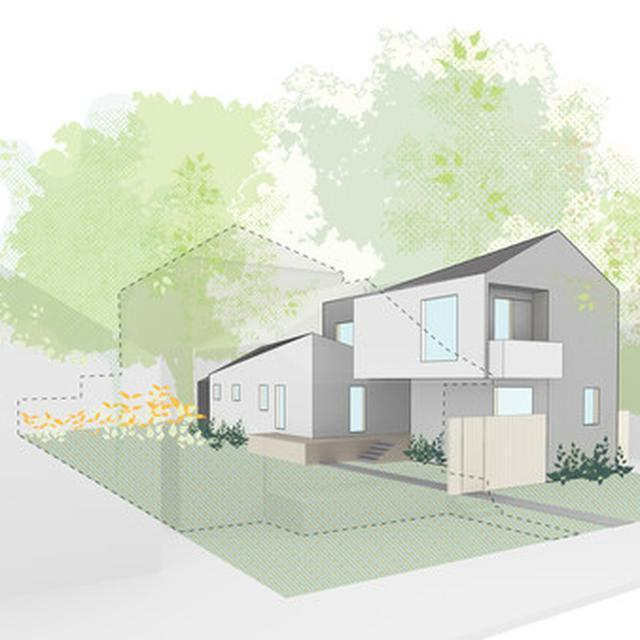building: (202, 226, 622, 476)
